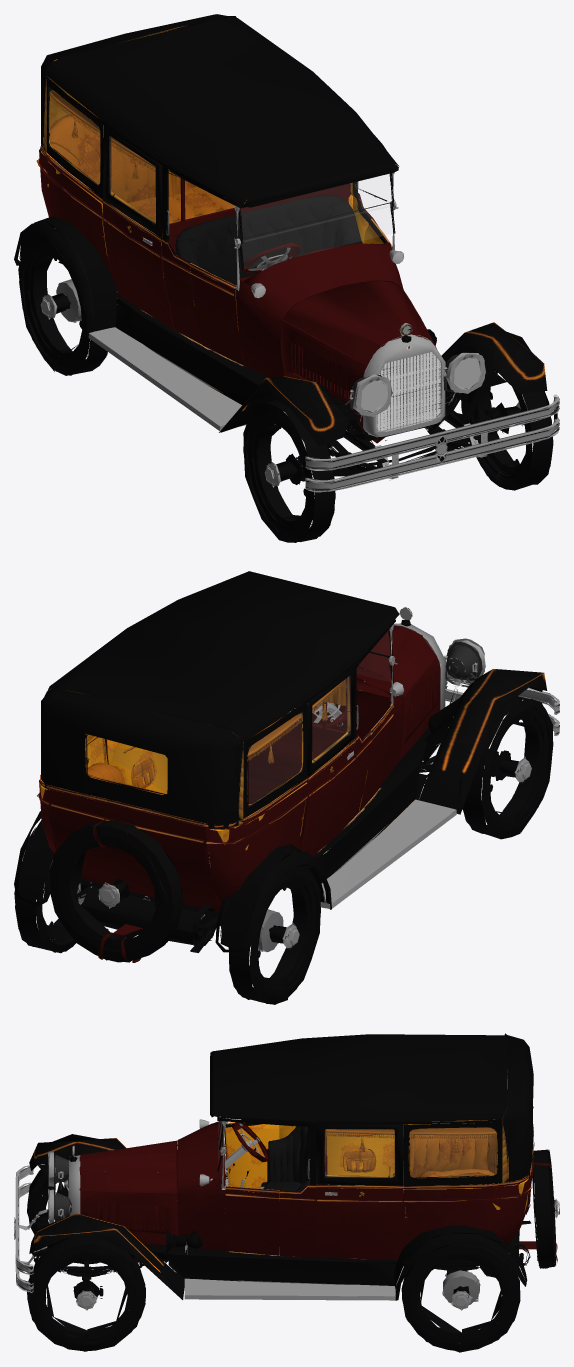
File: eocha_sunjong.glb
3 views of the same model, one above another, from view 1: azimuth 30°, elevation 25°; view 2: azimuth 150°, elevation 25°; view 3: azimuth 270°, elevation 25° (orthographic). The views are drawn at different scales.
Visible parts, largest first — view 1: BODY_03_BODY_03_0, BODY_01_Body_01_0, IN_in_0.004, re_front_Body_01_0, Object024_Body_01_0, re_TIRE2_Tire_0, DOOR_02_BODY_02_0, re_01_BODY_03_0, BODY_02_BODY_02_0, re_TIRE4_Tire_0, re_TIRE1_Tire_0, Object026_sliver_0 (+13 smaller); view 2: BODY_03_BODY_03_0, BODY_01_Body_01_0, re_TIRE005_Tire_0, Object024_Body_01_0, re_TIRE2_Tire_0, re_TIRE4_Tire_0, DOOR_02_BODY_02_0, BODY_02_BODY_02_0, re_front_Body_01_0, ENGINE_04_ENGINE_04_0, Object033_Body_01_0, re_TIRE3_Tire_0 (+12 smaller); view 3: BODY_03_BODY_03_0, BODY_01_Body_01_0, DOOR_01_BODY_02_0, re_TIRE1_Tire_0, re_TIRE3_Tire_0, BODY_02_BODY_02_0, re_front_Body_01_0, IN_in_0.004, Object024_Body_01_0, Object032_Body_01_0, DOOR_04_BODY_02_0, re_TIRE005_Tire_0 (+15 smaller).
Boxes of the visible parts, x1=… form: BODY_03_BODY_03_0: x1=36, y1=14, x2=487, y2=480; BODY_01_Body_01_0: x1=14, y1=173, x2=436, y2=433; IN_in_0.004: x1=50, y1=98, x2=358, y2=284; re_front_Body_01_0: x1=236, y1=242, x2=445, y2=437; Object024_Body_01_0: x1=219, y1=322, x2=547, y2=446; re_TIRE2_Tire_0: x1=243, y1=400, x2=335, y2=542; DOOR_02_BODY_02_0: x1=102, y1=125, x2=174, y2=330; re_01_BODY_03_0: x1=305, y1=396, x2=559, y2=492; BODY_02_BODY_02_0: x1=41, y1=78, x2=398, y2=344; re_TIRE4_Tire_0: x1=18, y1=230, x2=107, y2=375; re_TIRE1_Tire_0: x1=461, y1=351, x2=553, y2=490; Object026_sliver_0: x1=376, y1=352, x2=441, y2=431; BODY_03_BODY_03_0: x1=37, y1=571, x2=447, y2=911; BODY_01_Body_01_0: x1=14, y1=728, x2=456, y2=952; re_TIRE005_Tire_0: x1=49, y1=820, x2=183, y2=962; Object024_Body_01_0: x1=415, y1=669, x2=547, y2=814; re_TIRE2_Tire_0: x1=462, y1=696, x2=553, y2=839; re_TIRE4_Tire_0: x1=228, y1=860, x2=320, y2=1004; DOOR_02_BODY_02_0: x1=299, y1=666, x2=355, y2=856; BODY_02_BODY_02_0: x1=39, y1=619, x2=397, y2=829; re_front_Body_01_0: x1=282, y1=607, x2=445, y2=785; ENGINE_04_ENGINE_04_0: x1=81, y1=882, x2=216, y2=952; Object033_Body_01_0: x1=390, y1=656, x2=440, y2=761; re_TIRE3_Tire_0: x1=14, y1=828, x2=82, y2=953; BODY_03_BODY_03_0: x1=14, y1=1033, x2=533, y2=1264; BODY_01_Body_01_0: x1=144, y1=1140, x2=527, y2=1300; DOOR_01_BODY_02_0: x1=316, y1=1124, x2=403, y2=1259; re_TIRE1_Tire_0: x1=27, y1=1238, x2=145, y2=1351; re_TIRE3_Tire_0: x1=401, y1=1244, x2=520, y2=1352; BODY_02_BODY_02_0: x1=217, y1=1117, x2=534, y2=1257; re_front_Body_01_0: x1=68, y1=1121, x2=227, y2=1250; IN_in_0.004: x1=261, y1=1121, x2=496, y2=1190; Object024_Body_01_0: x1=29, y1=1134, x2=184, y2=1299; Object032_Body_01_0: x1=80, y1=1190, x2=178, y2=1245; DOOR_04_BODY_02_0: x1=224, y1=1185, x2=279, y2=1255; re_TIRE005_Tire_0: x1=532, y1=1149, x2=559, y2=1268.
Size of the model in its own units: 1.8 by 1.9 by 3.98.
17 materials, 14 textured.
